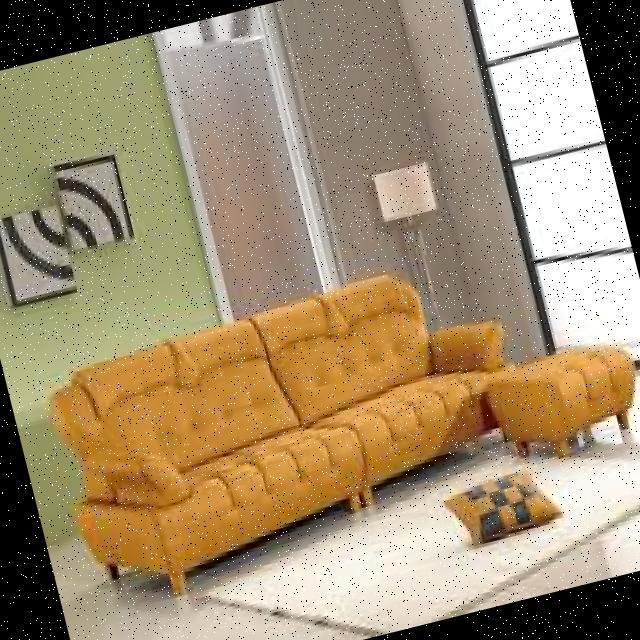Sofa: (19, 210, 640, 618)
